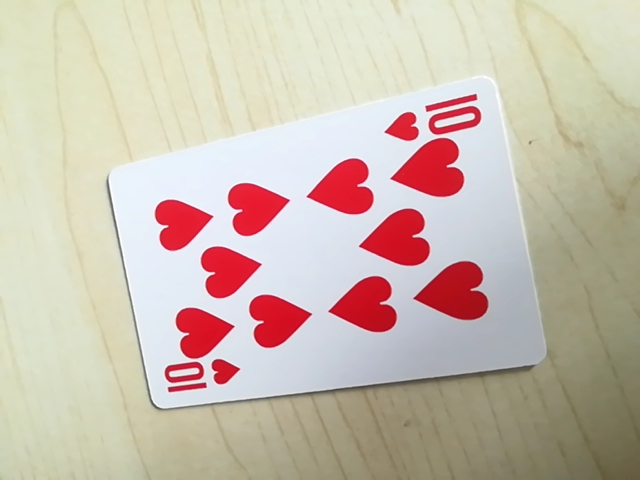hx 10: (385, 92, 488, 142), (159, 355, 241, 404)
